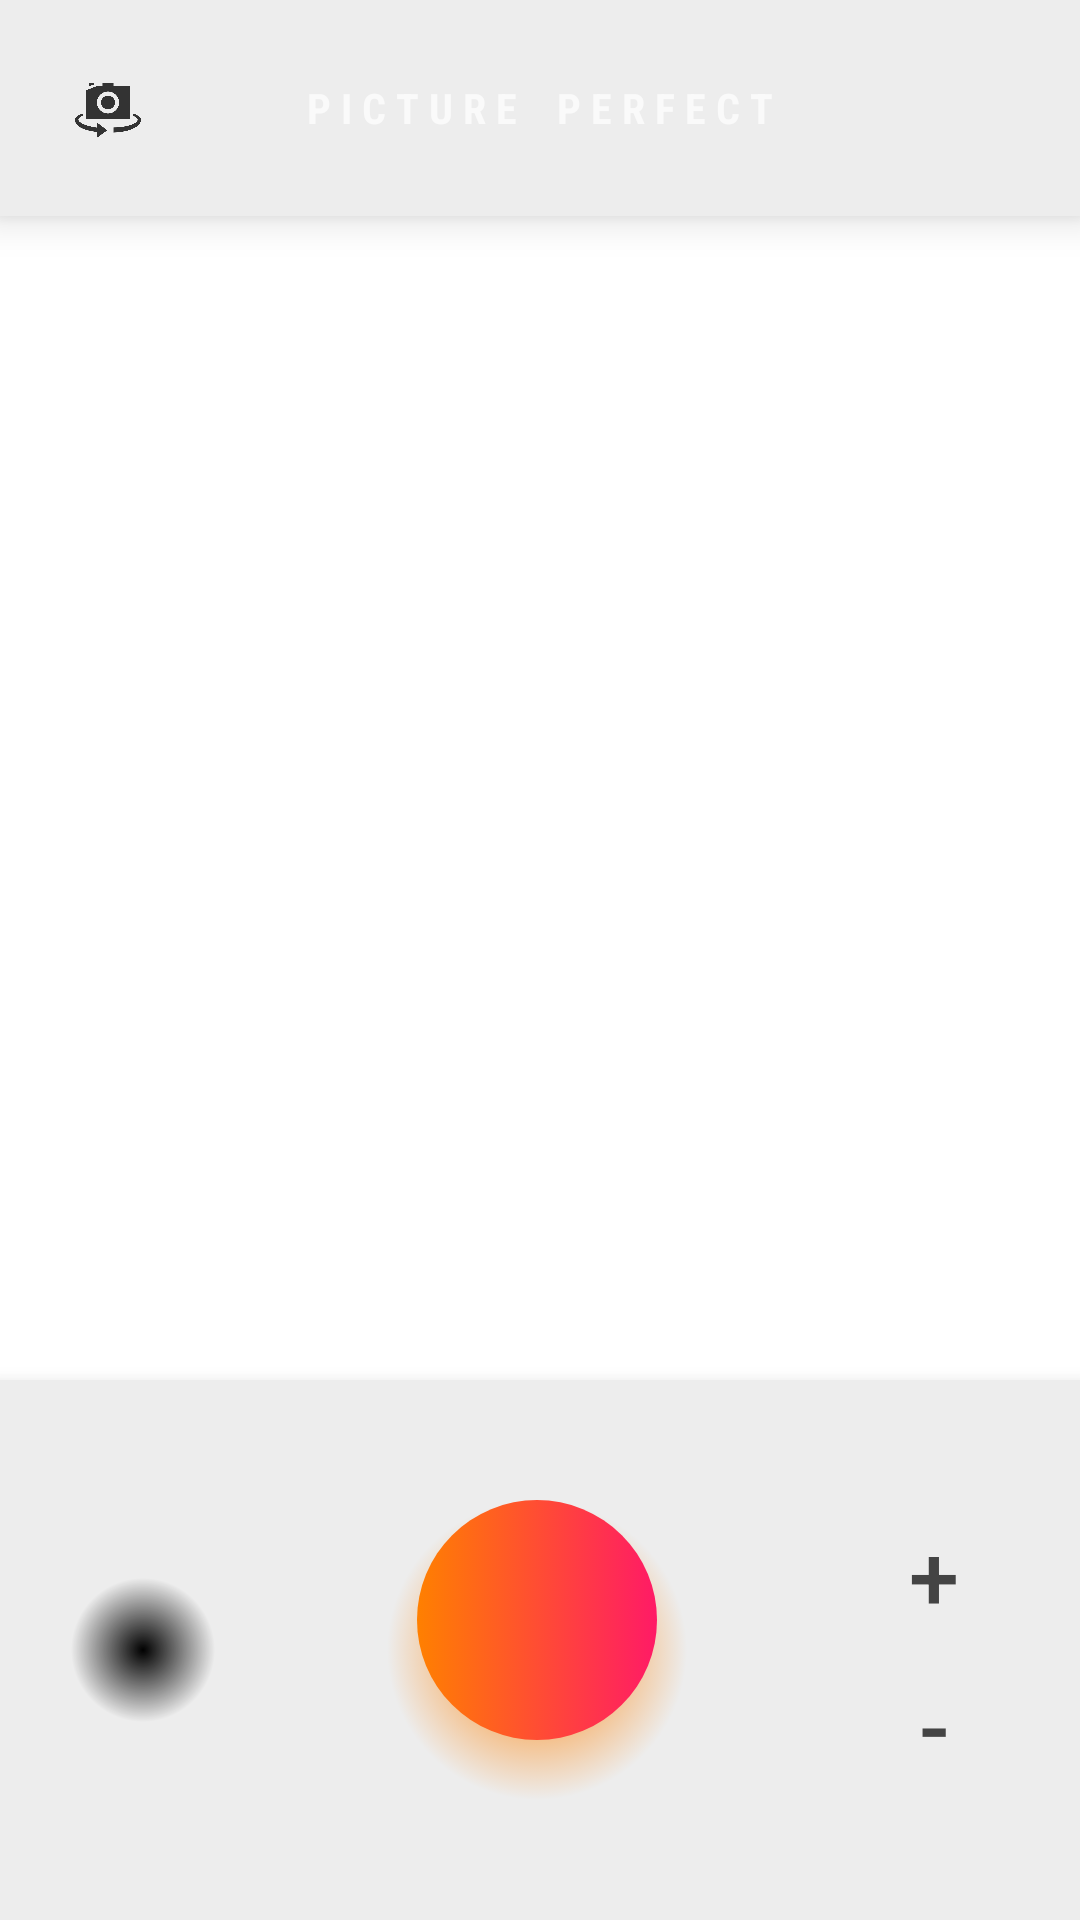

Point at icon controls on the screen. Image size 1080*1920, points as (x,y).
camerarotate: (108,110)
